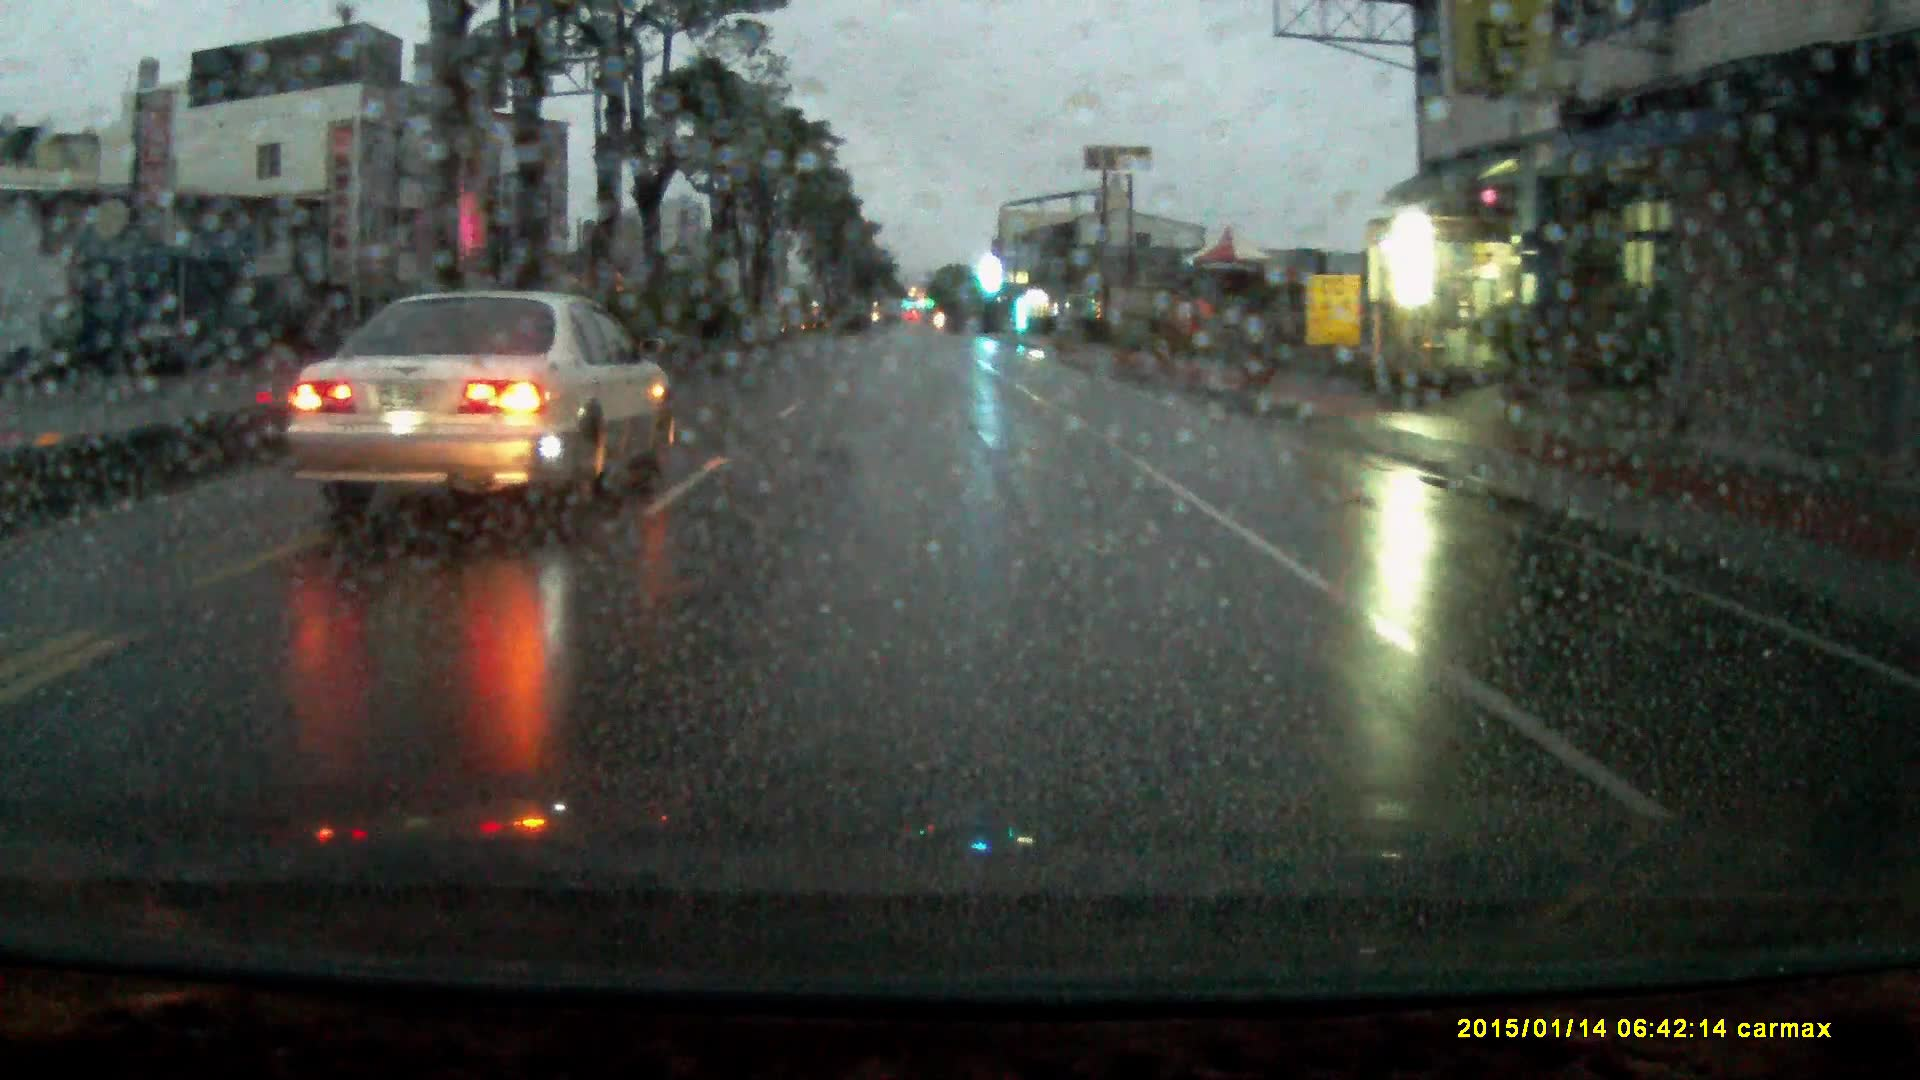vehicle: (276, 289, 678, 520)
